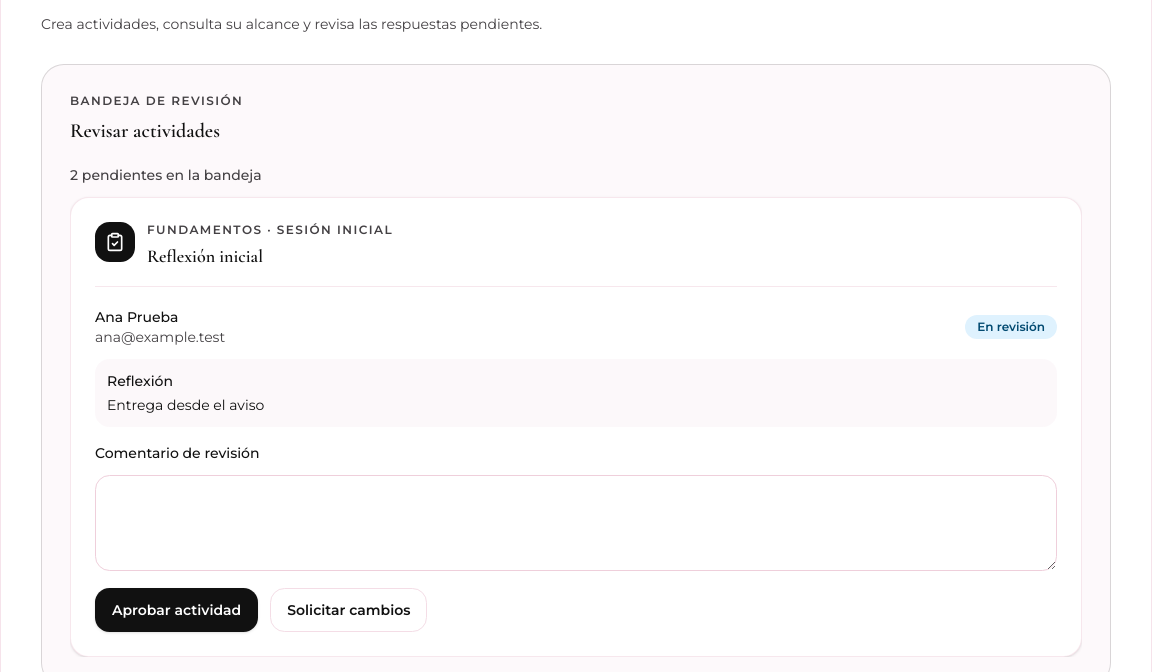
opens the notified delivery first and continues reviewing the remaining queue
(page scrolled)
Expected: the text "Entrega desde el aviso" is shown, [107, 396, 264, 414]
Click the button "Aprobar actividad": (177, 610) [95, 588, 258, 632]
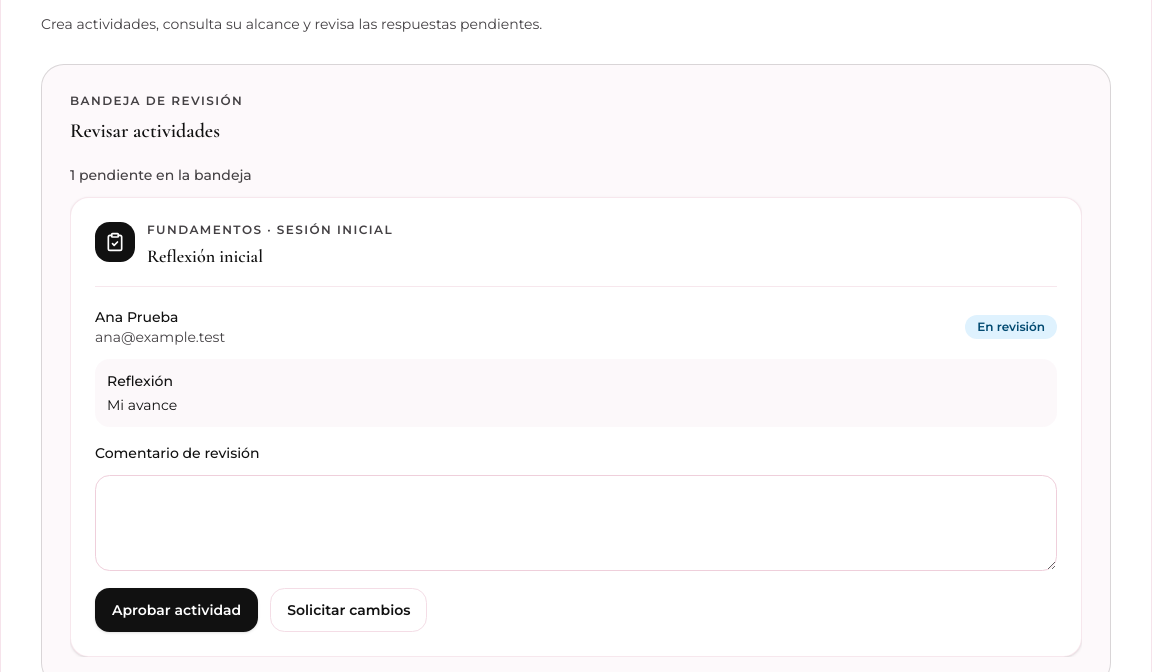
Now the text "Mi avance" is shown, box [107, 396, 177, 414]
